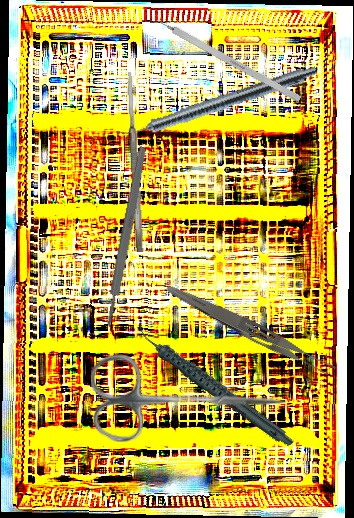Dressing Forceps: (161, 280, 340, 382)
Handpiece: (133, 295, 296, 475), (115, 59, 319, 146)
Hook Surgical: (142, 9, 302, 103)
Iris Scissors: (91, 354, 288, 443)
Scalpel Handle: (102, 145, 149, 328)
Spatula Surgical: (125, 71, 145, 253)
